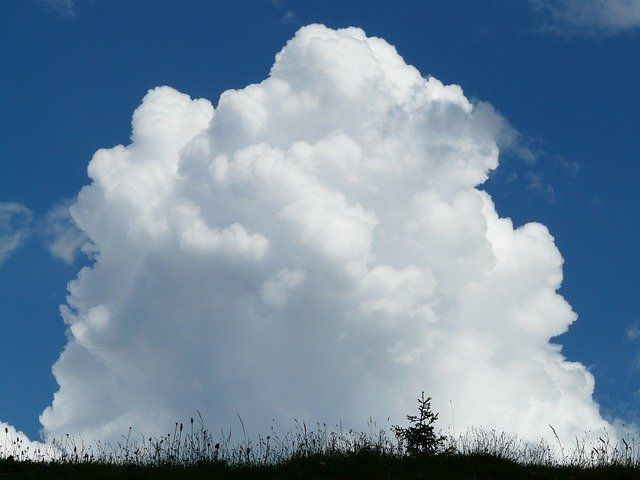Cumulus: (30, 19, 622, 457)
